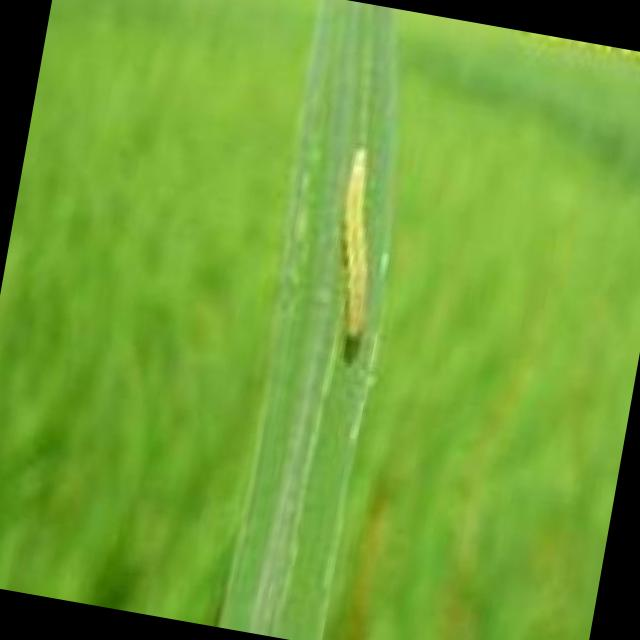leaf-folder: (298, 128, 413, 374)
